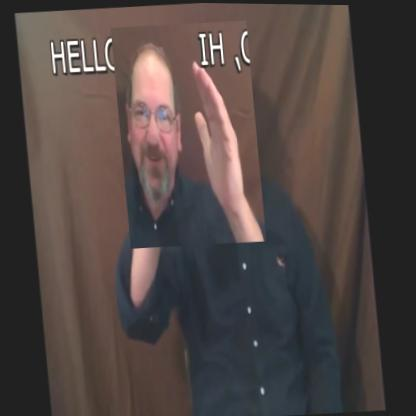Hello: (110, 18, 265, 250)
